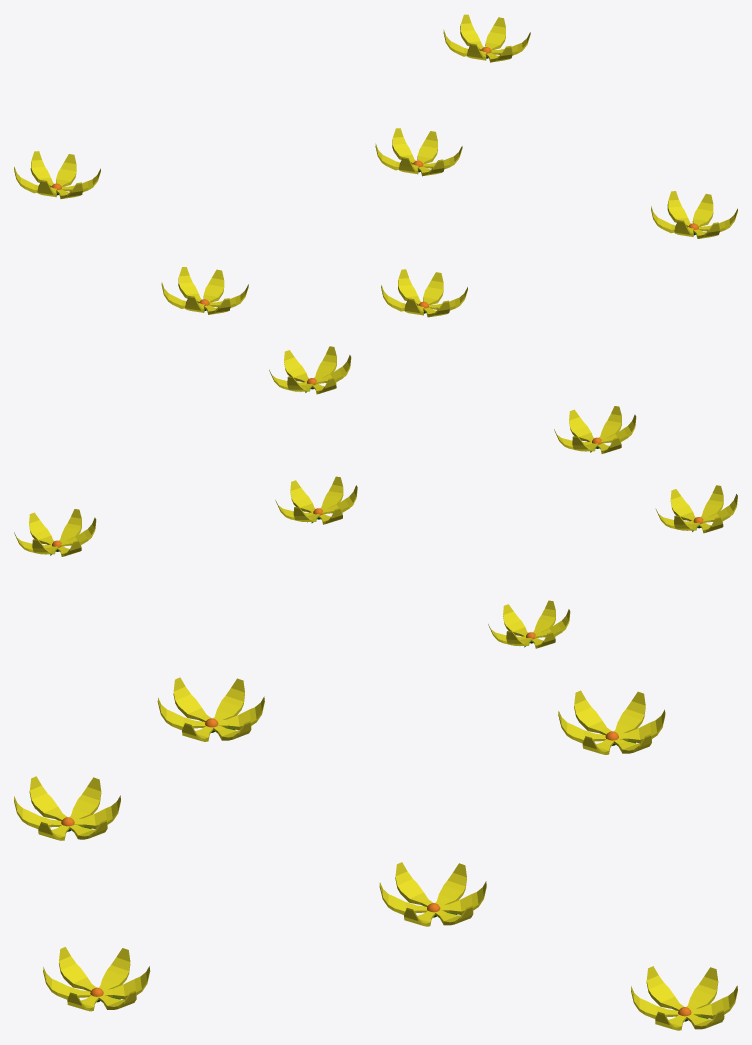
File: Flowers High.fbx
3 renders of one model, top to bottom at view 1: azimuth 30°, elevation 25°; view 2: azimuth 150°, elevation 25°; view 3: azimuth 270°, elevation 25°, orthographic. The views are drawn at different scales.
Parts seen in each view (by area): view 1: Cylinder.043; view 2: Cylinder.043; view 3: Cylinder.043.
Boxes of the visible parts, box(x1,y1,x2,y2) form: Cylinder.043: box(14, 14, 737, 317); Cylinder.043: box(14, 346, 737, 648); Cylinder.043: box(14, 677, 737, 1030).
Size of the model in its own units: 719 by 46.08 by 667.
